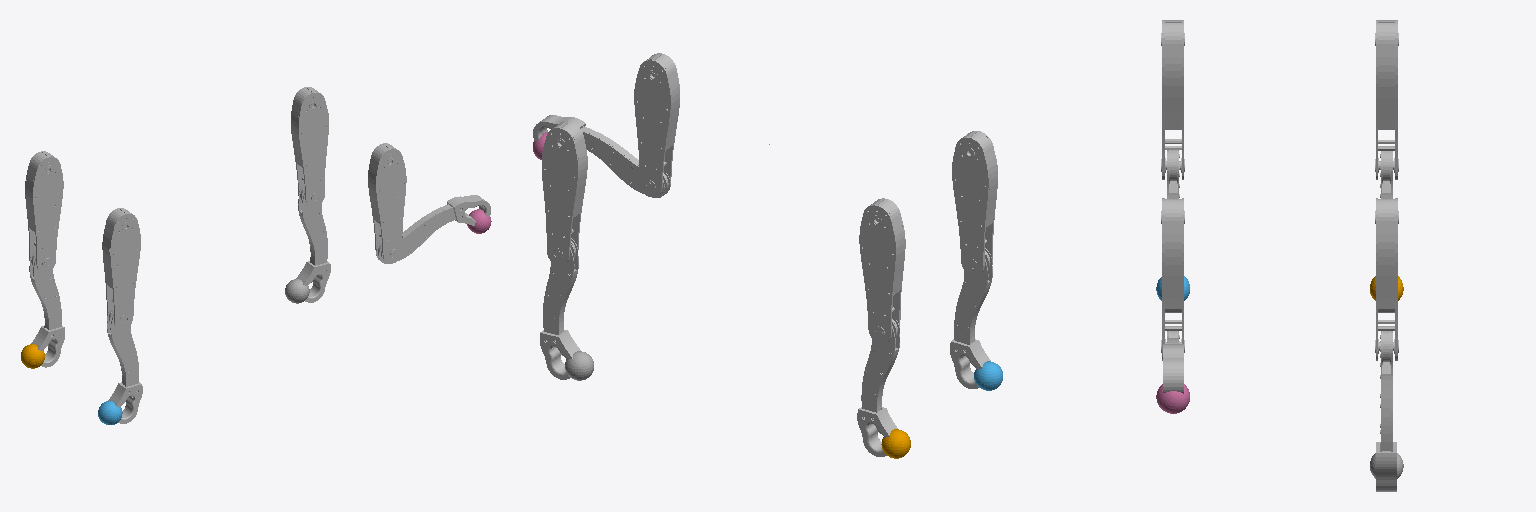
--- Render facts (derived) ---
Views: 3 orthographic renders of the robot side by side, from view 1: azimuth 30°, elevation 25°; view 2: azimuth 150°, elevation 25°; view 3: azimuth 270°, elevation 25°.
Model svan_urdf_package with 18 links and 17 joints (12 revolute, 5 fixed), rooted at base, posed all joints at 0 but 1 set to mid-range because 0 is outside their limits (fr_knee_j = -1.81).
Links seen in each view (by area): view 1: rl_hip_l, rr_hip_l, fr_hip_l, fl_hip_l, fl_knee_a, rr_knee_l, rl_knee_l, fr_knee_l; view 2: rl_hip_l, rr_hip_l, fr_hip_l, fl_hip_l, fl_knee_a, rl_knee_l, rr_knee_l, fr_knee_l, foot_FL, foot_RL, foot_RR; view 3: fl_hip_l, rr_hip_l, rl_hip_l, fr_hip_l, fl_knee_a, fr_knee_l, rr_knee_l, rl_knee_l, foot_FR.
Boxes of the visible links, <box> form: rl_hip_l: <box>25,151,63,272</box>; rr_hip_l: <box>102,208,140,328</box>; fr_hip_l: <box>368,143,406,263</box>; fl_hip_l: <box>291,87,328,206</box>; fl_knee_a: <box>296,184,330,302</box>; rr_knee_l: <box>107,306,142,423</box>; rl_knee_l: <box>29,250,64,367</box>; fr_knee_l: <box>376,195,490,263</box>; rl_hip_l: <box>859,198,905,343</box>; rr_hip_l: <box>952,131,997,275</box>; fr_hip_l: <box>634,53,679,197</box>; fl_hip_l: <box>542,121,587,264</box>; fl_knee_a: <box>540,238,580,379</box>; rl_knee_l: <box>857,316,899,456</box>; rr_knee_l: <box>950,248,992,388</box>; fr_knee_l: <box>533,115,670,197</box>; foot_FL: <box>565,351,593,380</box>; foot_RL: <box>881,429,910,458</box>; foot_RR: <box>974,361,1002,390</box>; fl_hip_l: <box>1375,198,1398,360</box>; rr_hip_l: <box>1161,20,1184,179</box>; rl_hip_l: <box>1375,20,1398,179</box>; fr_hip_l: <box>1161,198,1184,360</box>; fl_knee_a: <box>1376,331,1396,491</box>; fr_knee_l: <box>1163,331,1183,393</box>; rr_knee_l: <box>1165,150,1181,312</box>; rl_knee_l: <box>1378,151,1394,312</box>; foot_FR: <box>1156,384,1189,413</box>.
Bounding box of the posed robot: 0.7295 × 0.2905 × 0.3754 m (x, y, z).
Meshes: 13 distinct files referenced, 8 mesh visuals loaded (8 binary STL); not drawn: 5 (reference not matched to a file when rendering).

robot.urdf — svan_urdf_package:
<?xml version="1.0" encoding="utf-8"?>
<!-- This URDF was automatically created by SolidWorks to URDF Exporter! Originally created by Stephen Brawner ([email redacted]) 
     Commit Version: 1.6.0-4-g7f85cfe  Build Version: 1.6.7995.38578
     For more information, please see http://wiki.ros.org/sw_urdf_exporter -->
<robot
  name="svan_urdf_package">
  <link name="base">
    <visual>
      <origin rpy="0 0 0" xyz="0 0 0"/>
      <geometry>
        <box size="0.001 0.001 0.001"/>
      </geometry>
    </visual>
  </link> 
  <joint name="floating_base" type="fixed">
    <origin rpy="0 0 0" xyz="0 0 0"/>
    <parent link="base"/>
    <child link="trunk"/>
  </joint>
  <link
    name="trunk">
    <inertial>
      <origin
        xyz="-0.000736126189085237 -1.72251877519347E-05 9.8768329506848E-05"
        rpy="0 0 0" />
      <mass
        value="2.99710872609609" />
      <inertia
        ixx="0.00437980864562948"
        ixy="-3.84604566302649E-08"
        ixz="-6.89975946715173E-08"
        iyy="0.0107359870662536"
        iyz="4.61648347490341E-07"
        izz="0.0128759281709884" />
    </inertial>
    <visual>
      <origin
        xyz="0 0 0"
        rpy="0 0 0" />
      <geometry>
        <mesh
          filename="../meshes/torso_link.STL" />
      </geometry>
      <material
        name="">
        <!-- <color
          rgba="0.752941176470588 0.752941176470588 0.752941176470588 1" /> -->
        <color
          rgba="0.2 0.4 0.7 1" />
      </material>
    </visual>
    <collision>
      <origin
        xyz="0 0 0"
        rpy="0 0 0" />
      <geometry>
        <mesh
          filename="../meshes/torso_link.STL" />
      </geometry>
    </collision>
  </link>
  <link
    name="fr_abd_l">
    <inertial>
      <origin
        xyz="0.0431354666865266 -0.0619037967425595 -1.28783333823018E-05"
        rpy="0 0 0" />
      <mass
        value="0.547089526327116" />
      <inertia
        ixx="0.000195963974362415"
        ixy="6.55731584977151E-06"
        ixz="8.03607942102591E-10"
        iyy="0.000300416287485921"
        iyz="-1.87450618305707E-08"
        izz="0.000205685414875868" />
    </inertial>
    <visual>
      <origin
        xyz="0 0 0"
        rpy="0 0 0" />
      <geometry>
        <mesh
          filename="../meshes/fr_abd_l.STL" />
      </geometry>
      <material
        name="">
        <color
          rgba="0.752941176470588 0.752941176470588 0.752941176470588 1" />
      </material>
    </visual>
    <collision>
      <origin
        xyz="0 0 0"
        rpy="0 0 0" />
      <geometry>
        <mesh
          filename="../meshes/fr_abd_l.STL" />
      </geometry>
    </collision>
  </link>
  <joint
    name="fr_abd_j"
    type="revolute">
    <origin
      xyz="0.20368 -0.06 0"
      rpy="0 0 0" />
    <parent
      link="trunk" />
    <child
      link="fr_abd_l" />
    <axis
      xyz="1 0 0" />
    <dynamics damping="0" friction="0"/>
    <limit
      lower="-0.8"
      upper="0.8"
      effort="20"
      velocity="52.4" />
  </joint>
  <link
    name="fr_hip_l">
    <inertial>
      <origin
        xyz="0.00165916788705489 0.00999999412640479 -0.0713157899491978"
        rpy="0 0 0" />
      <mass
        value="0.147108571121328" />
      <inertia
        ixx="0.000309578662803665"
        ixy="3.78430545648715E-11"
        ixz="6.9914225906236E-06"
        iyy="0.000329310052837933"
        iyz="6.78580350895923E-11"
        izz="2.13859904286806E-05" />
    </inertial>
    <visual>
      <origin
        xyz="0 0 0"
        rpy="0 0 0" />
      <geometry>
        <mesh
          filename="../meshes/fr_hip_l.STL" />
      </geometry>
      <material
        name="">
        <color
          rgba="0.752941176470588 0.752941176470588 0.752941176470588 1" />
      </material>
    </visual>
    <collision>
      <origin
        xyz="0 0 0"
        rpy="0 0 0" />
      <geometry>
        <mesh
          filename="../meshes/fr_hip_l.STL" />
      </geometry>
    </collision>
  </link>
  <joint
    name="fr_hip_j"
    type="revolute">
    <origin
      xyz="0.043 -0.07525 0"
      rpy="0 0 0" />
    <parent
      link="fr_abd_l" />
    <child
      link="fr_hip_l" />
    <axis
      xyz="0 1 0" />
    <dynamics damping="0" friction="0"/>
    <limit effort="55" lower="-1.0471975512" upper="4.18879020479" velocity="28.6"/>

  </joint>
  <link
    name="fr_knee_l">
    <inertial>
      <origin
        xyz="0.00288556341815482 1.5445513158463E-06 -0.0756253134355262"
        rpy="0 0 0" />
      <mass
        value="0.122422228142348" />
      <inertia
        ixx="9.45801447821519E-05"
        ixy="-2.61144960906036E-09"
        ixz="6.78248943065743E-06"
        iyy="0.00011005271843826"
        iyz="-5.2727542858242E-09"
        izz="2.0670821626861E-05" />
    </inertial>
    <visual>
      <origin
        xyz="0 0 0"
        rpy="0 0 0" />
      <geometry>
        <mesh
          filename="../meshes/fr_knee_l.STL" />
      </geometry>
      <material
        name="">
        <color
          rgba="0.752941176470588 0.752941176470588 0.752941176470588 1" />
      </material>
    </visual>
    <collision>
      <origin
        xyz="0 0 0"
        rpy="0 0 0" />
      <geometry>
        <mesh
          filename="../meshes/fr_knee_l.STL" />
      </geometry>
    </collision>
  </link>
  <joint
    name="fr_knee_j"
    type="revolute">
    <origin
      xyz="0.0041389 0.01 -0.16494"
      rpy="0 0 0" />
    <parent
      link="fr_hip_l" />
    <child
      link="fr_knee_l" />
    <axis
      xyz="0 1 0" />
    <dynamics damping="0" friction="0"/>
    <limit effort="55" lower="-2.69653369433" upper="-0.916297857297" velocity="28.6"/>

  </joint>
  <!-- <link
    name="fr_dummy_l">
    <inertial>
      <origin
        xyz="0.00149999142621271 3.05311331771918E-15 5.0716157441455E-06"
        rpy="0 0 0" />
      <mass
        value="9.42477796076937E-06" />
      <inertia
        ixx="4.71244285092067E-12"
        ixy="-3.43878520170761E-27"
        ixz="-1.59328596951608E-14"
        iyy="9.42477796076933E-12"
        iyz="-2.01948391735052E-28"
        izz="9.42472409023335E-12" />
    </inertial>
    <visual>
      <origin
        xyz="0 0 0"
        rpy="0 0 0" />
      <geometry>
        <mesh
          filename="../meshes/fr_dummy_l.STL" />
      </geometry>
      <material
        name="">
        <color
          rgba="0.792156862745098 0.819607843137255 0.933333333333333 1" />
      </material>
    </visual>
    <collision>
      <origin
        xyz="0 0 0"
        rpy="0 0 0" />
      <geometry>
        <mesh
          filename="../meshes/fr_dummy_l.STL" />
      </geometry>
    </collision>
  </link> -->
  <joint
    name="fr_dummy_j"
    type="fixed" dont_collapse="true">
    <origin
      xyz="-0.026457 0 -0.16693"
      rpy="0 0 0" />
    <parent
      link="fr_knee_l" />
    <child
      link="foot_FR" />
    <dynamics damping="0" friction="0"/>
  </joint>
  <link
    name="fl_abd_l">
    <inertial>
      <origin
        xyz="0.0431354666865253 0.0619037967425567 1.28783333771046E-05"
        rpy="0 0 0" />
      <mass
        value="0.547089526327068" />
      <inertia
        ixx="0.000195963974362192"
        ixy="-6.55731584978387E-06"
        ixz="-8.03607962880309E-10"
        iyy="0.000300416287485723"
        iyz="-1.87450617909673E-08"
        izz="0.000205685414875836" />
    </inertial>
    <visual>
      <origin
        xyz="0 0 0"
        rpy="0 0 0" />
      <geometry>
        <mesh
          filename="../meshes/fl_abd_l.STL" />
      </geometry>
      <material
        name="">
        <color
          rgba="0.752941176470588 0.752941176470588 0.752941176470588 1" />
      </material>
    </visual>
    <collision>
      <origin
        xyz="0 0 0"
        rpy="0 0 0" />
      <geometry>
        <mesh
          filename="../meshes/fl_abd_l.STL" />
      </geometry>
    </collision>
  </link>
  <joint
    name="fl_abd_j"
    type="revolute">
    <origin
      xyz="0.20368 0.06 0"
      rpy="0 0 0" />
    <parent
      link="trunk" />
    <child
      link="fl_abd_l" />
    <axis
      xyz="1 0 0" />
    <limit
      lower="-3"
      upper="3"
      effort="100"
      velocity="100" />
    <dynamics damping="0" friction="0"/>
  </joint>
  <link
    name="fl_hip_l">
    <inertial>
      <origin
        xyz="0.0016591678870552 -0.0100000058735955 -0.0713157899491955"
        rpy="0 0 0" />
      <mass
        value="0.147108571121327" />
      <inertia
        ixx="0.000309578662803818"
        ixy="3.78430545549379E-11"
        ixz="6.99142259045296E-06"
        iyy="0.000329310052838139"
        iyz="6.78580349989196E-11"
        izz="2.13859904287332E-05" />
    </inertial>
    <visual>
      <origin
        xyz="0 0 0"
        rpy="0 0 0" />
      <geometry>
        <mesh
          filename="../meshes/fl_hip_l.STL" />
      </geometry>
      <material
        name="">
        <color
          rgba="0.752941176470588 0.752941176470588 0.752941176470588 1" />
      </material>
    </visual>
    <collision>
      <origin
        xyz="0 0 0"
        rpy="0 0 0" />
      <geometry>
        <mesh
          filename="../meshes/fl_hip_l.STL" />
      </geometry>
    </collision>
  </link>
  <joint
    name="fl_hip_j"
    type="revolute">
    <origin
      xyz="0.043 0.07525 0"
      rpy="0 0 0" />
    <parent
      link="fl_abd_l" />
    <child
      link="fl_hip_l" />
    <axis
      xyz="0 1 0" />
    <limit
      lower="-3"
      upper="3"
      effort="100"
      velocity="100" />
    <dynamics damping="0" friction="0"/>
  </joint>
  <link
    name="fl_knee_a">
    <inertial>
      <origin
        xyz="0.00288556341815421 1.54455131551323E-06 -0.0756253134355257"
        rpy="0 0 0" />
      <mass
        value="0.122422228142348" />
      <inertia
        ixx="9.45801447821233E-05"
        ixy="-2.61144960908792E-09"
        ixz="6.78248943063961E-06"
        iyy="0.000110052718438119"
        iyz="-5.27275428583716E-09"
        izz="2.0670821626749E-05" />
    </inertial>
    <visual>
      <origin
        xyz="0 0 0"
        rpy="0 0 0" />
      <geometry>
        <mesh
          filename="../meshes/fl_knee_a.STL" />
      </geometry>
      <material
        name="">
        <color
          rgba="0.752941176470588 0.752941176470588 0.752941176470588 1" />
      </material>
    </visual>
    <collision>
      <origin
        xyz="0 0 0"
        rpy="0 0 0" />
      <geometry>
        <mesh
          filename="../meshes/fl_knee_a.STL" />
      </geometry>
    </collision>
  </link>
  <joint
    name="fl_knee_j"
    type="revolute">
    <origin
      xyz="0.0041389 -0.01 -0.16494"
      rpy="0 0 0" />
    <parent
      link="fl_hip_l" />
    <child
      link="fl_knee_a" />
    <axis
      xyz="0 1 0" />
    <limit
      lower="-3"
      upper="3"
      effort="100"
      velocity="100" />
    <dynamics damping="0" friction="0"/>
  </joint>
  <!-- <link
    name="fl_dummy_l">
    <inertial>
      <origin
        xyz="0.0014999914262166 2.55351295663786E-15 5.07161574681003E-06"
        rpy="0 0 0" />
      <mass
        value="9.42477796076937E-06" />
      <inertia
        ixx="4.71244285092067E-12"
        ixy="-1.7027390075873E-27"
        ixz="-1.59328596951634E-14"
        iyy="9.42477796076932E-12"
        iyz="-4.41762106934845E-29"
        izz="9.42472409023335E-12" />
    </inertial>
    <visual>
      <origin
        xyz="0 0 0"
        rpy="0 0 0" />
      <geometry>
        <mesh
          filename="../meshes/fl_dummy_l.STL" />
      </geometry>
      <material
        name="">
        <color
          rgba="0.792156862745098 0.819607843137255 0.933333333333333 1" />
      </material>
    </visual>
    <collision>
      <origin
        xyz="0 0 0"
        rpy="0 0 0" />
      <geometry>
        <mesh
          filename="../meshes/fl_dummy_l.STL" />
      </geometry>
    </collision>
  </link> -->
  <joint
    name="fl_dummy_j"
    type="fixed" dont_collapse="true">
    <origin
      xyz="-0.026618 0 -0.16693"
      rpy="0 0 0" />
    <parent
      link="fl_knee_a" />
    <child
      link="foot_FL" />

  </joint>
  <link
    name="rr_abd_l">
    <inertial>
      <origin
        xyz="-0.0408339071979818 -0.0619037967425603 0.000179250427446827"
        rpy="0 0 0" />
      <mass
        value="0.547089526327114" />
      <inertia
        ixx="0.000195963974362413"
        ixy="-6.63504112736179E-06"
        ixz="8.03607941529097E-10"
        iyy="0.000300416287485919"
        iyz="6.06375583261325E-10"
        izz="0.000205685414875867" />
    </inertial>
    <visual>
      <origin
        xyz="0 0 0"
        rpy="0 0 0" />
      <geometry>
        <mesh
          filename="../meshes/rr_abd_l.STL" />
      </geometry>
      <material
        name="">
        <color
          rgba="0.752941176470588 0.752941176470588 0.752941176470588 1" />
      </material>
    </visual>
    <collision>
      <origin
        xyz="0 0 0"
        rpy="0 0 0" />
      <geometry>
        <mesh
          filename="../meshes/rr_abd_l.STL" />
      </geometry>
    </collision>
  </link>
  <joint
    name="rr_abd_j"
    type="revolute">
    <origin
      xyz="-0.20482 -0.06 0"
      rpy="0 0 0" />
    <parent
      link="trunk" />
    <child
      link="rr_abd_l" />
    <axis
      xyz="1 0 0" />
    <limit
      lower="-3"
      upper="3"
      effort="100"
      velocity="100" />
    <dynamics damping="0" friction="0"/>
  </joint>
  <link
    name="rr_hip_l">
    <inertial>
      <origin
        xyz="-0.00165916788705478 0.0100000058735978 -0.0713157899491982"
        rpy="0 0 0" />
      <mass
        value="0.147108571121328" />
      <inertia
        ixx="0.000309578662803667"
        ixy="3.78430547339955E-11"
        ixz="-6.99142259061868E-06"
        iyy="0.000329310052837923"
        iyz="-6.78580243498918E-11"
        izz="2.1385990428668E-05" />
    </inertial>
    <visual>
      <origin
        xyz="0 0 0"
        rpy="0 0 0" />
      <geometry>
        <mesh
          filename="../meshes/rr_hip_l.STL" />
      </geometry>
      <material
        name="">
        <color
          rgba="0.752941176470588 0.752941176470588 0.752941176470588 1" />
      </material>
    </visual>
    <collision>
      <origin
        xyz="0 0 0"
        rpy="0 0 0" />
      <geometry>
        <mesh
          filename="../meshes/rr_hip_l.STL" />
      </geometry>
    </collision>
  </link>
  <joint
    name="rr_hip_j"
    type="revolute">
    <origin
      xyz="-0.043 -0.07525 0"
      rpy="0 0 0" />
    <parent
      link="rr_abd_l" />
    <child
      link="rr_hip_l" />
    <axis
      xyz="0 1 0" />
    <limit
      lower="-3"
      upper="3"
      effort="100"
      velocity="100" />
    <dynamics damping="0" friction="0"/>
  </joint>
  <link
    name="rr_knee_l">
    <inertial>
      <origin
        xyz="0.00654595759568111 1.5446183047052E-06 -0.0753966327483542"
        rpy="0 0 0" />
      <mass
        value="0.122422246876929" />
      <inertia
        ixx="9.37491120274394E-05"
        ixy="-2.35343019264926E-09"
        ixz="1.03265117822068E-05"
        iyy="0.000110051537971271"
        iyz="-5.39219781160484E-09"
        izz="2.15006699644239E-05" />
    </inertial>
    <visual>
      <origin
        xyz="0 0 0"
        rpy="0 0 0" />
      <geometry>
        <mesh
          filename="../meshes/rr_knee_l.STL" />
      </geometry>
      <material
        name="">
        <color
          rgba="0.752941176470588 0.752941176470588 0.752941176470588 1" />
      </material>
    </visual>
    <collision>
      <origin
        xyz="0 0 0"
        rpy="0 0 0" />
      <geometry>
        <mesh
          filename="../meshes/rr_knee_l.STL" />
      </geometry>
    </collision>
  </link>
  <joint
    name="rr_knee_j"
    type="revolute">
    <origin
      xyz="-0.0038618 0.01 -0.16493"
      rpy="0 0 0" />
    <parent
      link="rr_hip_l" />
    <child
      link="rr_knee_l" />
    <axis
      xyz="0 1 0" />
    <limit
      lower="-3"
      upper="3"
      effort="100"
      velocity="100" />
    <dynamics damping="0" friction="0"/>
  </joint>
  <!-- <link
    name="rr_dummy_l">
    <inertial>
      <origin
        xyz="0.00149798440726828 3.10862446895044E-15 7.7734905568394E-05"
        rpy="0 0 0" />
      <mass
        value="9.42477796076944E-06" />
      <inertia
        ixx="4.72504481421764E-12"
        ixy="-1.40725882958467E-27"
        ixz="-2.43883254369301E-13"
        iyy="9.42477796076952E-12"
        iyz="-7.74661408927972E-29"
        izz="9.41212212693661E-12" />
    </inertial>
    <visual>
      <origin
        xyz="0 0 0"
        rpy="0 0 0" />
      <geometry>
        <mesh
          filename="../meshes/rr_dummy_l.STL" />
      </geometry>
      <material
        name="">
        <color
          rgba="0.792156862745098 0.819607843137255 0.933333333333333 1" />
      </material>
    </visual>
    <collision>
      <origin
        xyz="0 0 0"
        rpy="0 0 0" />
      <geometry>
        <mesh
          filename="../meshes/rr_dummy_l.STL" />
      </geometry>
    </collision>
  </link> -->
  <joint
    name="rr_dummy_j"
    type="fixed" dont_collapse="true">
    <origin
      xyz="-0.018339 0 -0.16802"
      rpy="0 0 0" />
    <parent
      link="rr_knee_l" />
    <child
      link="foot_RR" />
  </joint>
  <link
    name="rl_abd_l">
    <inertial>
      <origin
        xyz="-0.0408339071979842 0.0619037967425569 -0.000179250427450348"
        rpy="0 0 0" />
      <mass
        value="0.547089526327067" />
      <inertia
        ixx="0.000195963974362192"
        ixy="6.6350411273486E-06"
        ixz="-8.03607962384451E-10"
        iyy="0.000300416287485722"
        iyz="6.06375623877521E-10"
        izz="0.000205685414875835" />
    </inertial>
    <visual>
      <origin
        xyz="0 0 0"
        rpy="0 0 0" />
      <geometry>
        <mesh
          filename="../meshes/rl_abd_l.STL" />
      </geometry>
      <material
        name="">
        <color
          rgba="0.752941176470588 0.752941176470588 0.752941176470588 1" />
      </material>
    </visual>
    <collision>
      <origin
        xyz="0 0 0"
        rpy="0 0 0" />
      <geometry>
        <mesh
          filename="../meshes/rl_abd_l.STL" />
      </geometry>
    </collision>
  </link>
  <joint
    name="rl_abd_j"
    type="revolute">
    <origin
      xyz="-0.20482 0.06 0"
      rpy="0 0 0" />
    <parent
      link="trunk" />
    <child
      link="rl_abd_l" />
    <axis
      xyz="1 0 0" />
    <limit
      lower="-3"
      upper="3"
      effort="100"
      velocity="100" />
    <dynamics damping="0" friction="0"/>
  </joint>
  <link
    name="rl_hip_l">
    <inertial>
      <origin
        xyz="-0.00179950691259256 -0.0100000058735954 -0.0713123896470731"
        rpy="0 0 0" />
      <mass
        value="0.147108560926126" />
      <inertia
        ixx="0.000309580559412878"
        ixy="4.14968005699223E-11"
        ixz="-6.9946474189349E-06"
        iyy="0.00032931216560272"
        iyz="6.56222779612308E-11"
        izz="2.13861970709628E-05" />
    </inertial>
    <visual>
      <origin
        xyz="0 0 0"
        rpy="0 0 0" />
      <geometry>
        <mesh
          filename="../meshes/rl_hip_l.STL" />
      </geometry>
      <material
        name="">
        <color
          rgba="0.752941176470588 0.752941176470588 0.752941176470588 1" />
      </material>
    </visual>
    <collision>
      <origin
        xyz="0 0 0"
        rpy="0 0 0" />
      <geometry>
        <mesh
          filename="../meshes/rl_hip_l.STL" />
      </geometry>
    </collision>
  </link>
  <joint
    name="rl_hip_j"
    type="revolute">
    <origin
      xyz="-0.043 0.07525 0"
      rpy="0 0 0" />
    <parent
      link="rl_abd_l" />
    <child
      link="rl_hip_l" />
    <axis
      xyz="0 1 0" />
    <limit
      lower="-3"
      upper="3"
      effort="100"
      velocity="100" />
    <dynamics damping="0" friction="0"/>
  </joint>
  <link
    name="rl_knee_l">
    <inertial>
      <origin
        xyz="0.00654594639576345 1.54461741741496E-06 -0.0753966803284335"
        rpy="0 0 0" />
      <mass
        value="0.122422317176859" />
      <inertia
        ixx="9.3749108734946E-05"
        ixy="-2.3534371458569E-09"
        ixz="1.03265058974487E-05"
        iyy="0.000110051571045759"
        iyz="-5.39219909611954E-09"
        izz="2.15007107251529E-05" />
    </inertial>
    <visual>
      <origin
        xyz="0 0 0"
        rpy="0 0 0" />
      <geometry>
        <mesh
          filename="../meshes/rl_knee_l.STL" />
      </geometry>
      <material
        name="">
        <color
          rgba="0.752941176470588 0.752941176470588 0.752941176470588 1" />
      </material>
    </visual>
    <collision>
      <origin
        xyz="0 0 0"
        rpy="0 0 0" />
      <geometry>
        <mesh
          filename="../meshes/rl_knee_l.STL" />
      </geometry>
    </collision>
  </link>
  <joint
    name="rl_knee_j"
    type="revolute">
    <origin
      xyz="-0.0038618 -0.01 -0.16493"
      rpy="0 0 0" />
    <parent
      link="rl_hip_l" />
    <child
      link="rl_knee_l" />
    <axis
      xyz="0 1 0" />
    <limit
      lower="-3"
      upper="3"
      effort="100"
      velocity="100" />
    <dynamics damping="0" friction="0"/>
  </joint>
  <!-- <link
    name="rl_dummy_l">
    <inertial>
      <origin
        xyz="0.0014979844072685 1.99840144432528E-15 7.77349055681165E-05"
        rpy="0 0 0" />
      <mass
        value="9.42477796076945E-06" />
      <inertia
        ixx="4.72504481421764E-12"
        ixy="-2.75052131823419E-27"
        ixz="-2.43883254369304E-13"
        iyy="9.42477796076952E-12"
        iyz="2.68212707776922E-29"
        izz="9.41212212693661E-12" />
    </inertial>
    <visual>
      <origin
        xyz="0 0 0"
        rpy="0 0 0" />
      <geometry>
        <mesh
          filename="../meshes/rl_dummy_l.STL" />
      </geometry>
      <material
        name="">
        <color
          rgba="0.792156862745098 0.819607843137255 0.933333333333333 1" />
      </material>
    </visual>
    <collision>
      <origin
        xyz="0 0 0"
        rpy="0 0 0" />
      <geometry>
        <mesh
          filename="../meshes/rl_dummy_l.STL" />
      </geometry>
    </collision>
  </link> -->
  <link name="foot_FR">
    <contact>
      <friction_anchor/>
      <stiffness value="30000.0"/>
      <damping value="750.0"/>
      <spinning_friction value="0.3"/>
      <lateral_friction value="50"/>
    </contact>
    <inertial>
        <origin xyz="0.0014979844072685 1.99840144432528E-15 7.77349055681165E-05"
        rpy="0 0 0" /> 
        <mass value="0.025" />
        <inertia ixx="2e-6" ixy="0" ixz="0" iyy="2e-6" iyz="0" izz="2e-6" />
      </inertial>
      <visual>
        <origin xyz="0 0 0" rpy="0 0 0" />
        <geometry>
          <sphere radius="0.02" />
        </geometry>
      </visual>
      <collision>
        <origin xyz="0 0 0" rpy="0 0 0" />
        <geometry>
          <sphere radius="0.02" />
        </geometry>
      </collision>
  </link>
  <link name="foot_FL">
    <contact>
      <friction_anchor/>
      <stiffness value="30000.0"/>
      <damping value="750.0"/>
      <spinning_friction value="0.3"/>
      <lateral_friction value="50"/>
    </contact>
    <inertial>
        <origin xyz="0.0014979844072685 1.99840144432528E-15 7.77349055681165E-05"
        rpy="0 0 0" /> 
        <mass value="0.025" />
        <inertia ixx="2e-6" ixy="0" ixz="0" iyy="2e-6" iyz="0" izz="2e-6" />
      </inertial>
      <visual>
        <origin xyz="0 0 0" rpy="0 0 0" />
        <geometry>
          <sphere radius="0.02" />
        </geometry>
      </visual>
      <collision>
        <origin xyz="0 0 0" rpy="0 0 0" />
        <geometry>
          <sphere radius="0.02" />
        </geometry>
      </collision>
  </link>
  <link name="foot_RL">
    <contact>
      <friction_anchor/>
      <stiffness value="30000.0"/>
      <damping value="750.0"/>
      <spinning_friction value="0.3"/>
      <lateral_friction value="50"/>
    </contact>
    <inertial>
        <origin xyz="0.0014979844072685 1.99840144432528E-15 7.77349055681165E-05"
        rpy="0 0 0" /> 
        <mass value="0.025" />
        <inertia ixx="2e-6" ixy="0" ixz="0" iyy="2e-6" iyz="0" izz="2e-6" />
      </inertial>
      <visual>
        <origin xyz="0 0 0" rpy="0 0 0" />
        <geometry>
          <sphere radius="0.02" />
        </geometry>
      </visual>
      <collision>
        <origin xyz="0 0 0" rpy="0 0 0" />
        <geometry>
          <sphere radius="0.02" />
        </geometry>
      </collision>
  </link>
  <link name="foot_RR">
    <contact>
      <friction_anchor/>
      <stiffness value="30000.0"/>
      <damping value="750.0"/>
      <spinning_friction value="0.3"/>
      <lateral_friction value="50"/>
    </contact>
    <inertial>
        <origin xyz="0.0014979844072685 1.99840144432528E-15 7.77349055681165E-05"
        rpy="0 0 0" /> 
        <mass value="0.025" />
        <inertia ixx="2e-6" ixy="0" ixz="0" iyy="2e-6" iyz="0" izz="2e-6" />
      </inertial>
      <visual>
        <origin xyz="0 0 0" rpy="0 0 0" />
        <geometry>
          <sphere radius="0.02" />
        </geometry>
      </visual>
      <collision>
        <origin xyz="0 0 0" rpy="0 0 0" />
        <geometry>
          <sphere radius="0.02" />
        </geometry>
      </collision>
  </link>

  <joint
    name="rl_dummy_j"
    type="fixed" dont_collapse="true">
    <origin
      xyz="-0.0185 0 -0.16802"
      rpy="0 0 0" />
    <parent
      link="rl_knee_l" />
    <child
      link="foot_RL" />

  </joint>
</robot>
